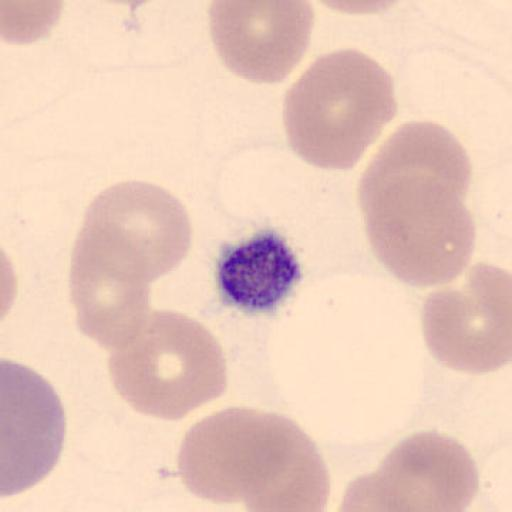Platelet: (211, 225, 307, 318)
RBC: (280, 46, 400, 173), (104, 309, 230, 422), (360, 172, 478, 289), (358, 118, 474, 230), (77, 177, 195, 284), (66, 228, 154, 350), (420, 261, 512, 375), (176, 405, 278, 506), (236, 411, 331, 511), (2, 357, 68, 498), (207, 0, 315, 86), (375, 428, 480, 511), (458, 437, 512, 512), (336, 471, 422, 512), (1, 0, 67, 47), (311, 0, 406, 17), (1, 245, 20, 322)
